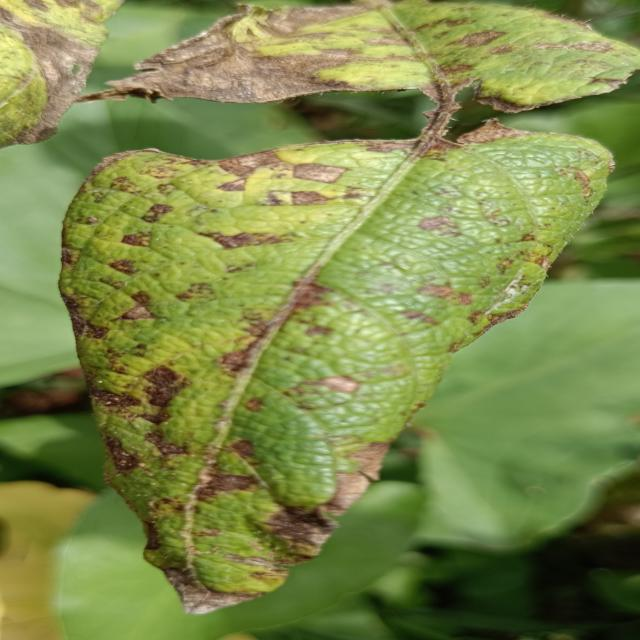Black gram_leaf spot: (49, 122, 640, 621), (119, 0, 640, 117)
